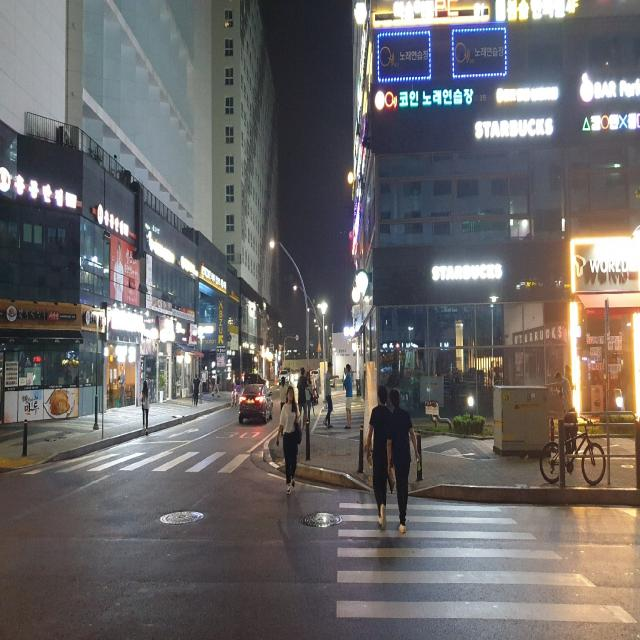횡단보도: (334, 499, 639, 628), (68, 443, 245, 481)
